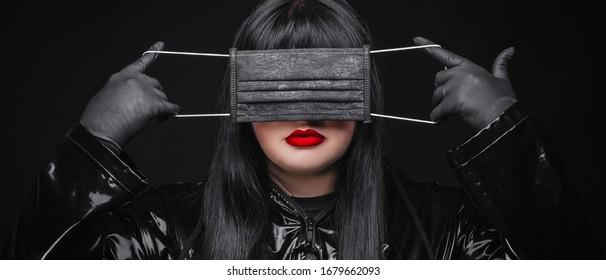gloves: (79, 37, 184, 156), (412, 33, 518, 128)
